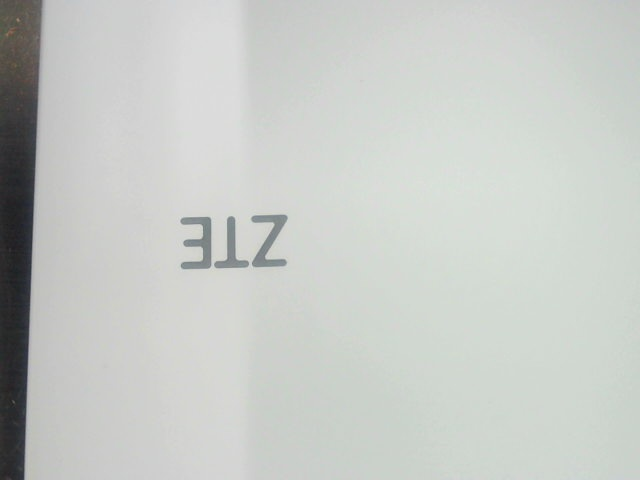AO_ZTESmall: (170, 203, 303, 282)
